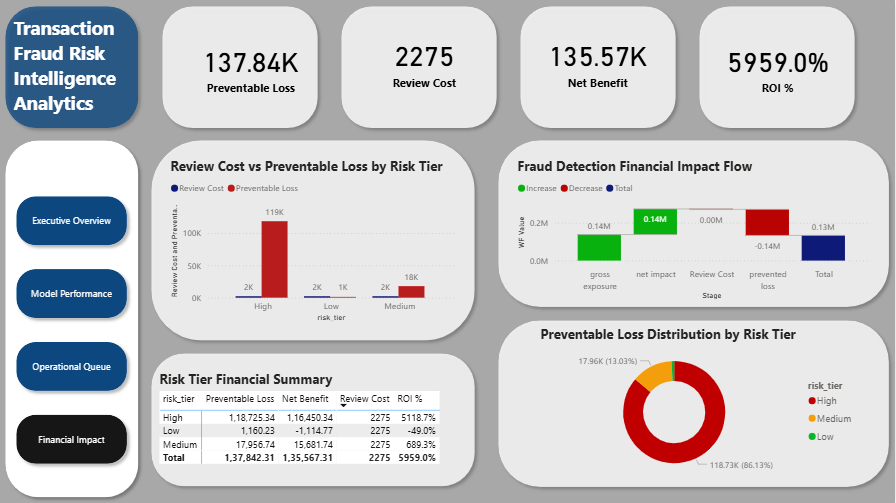

The dashboard page shown, as its layout file describes it:
{"tool":"powerbi","page":{"name":"Financial Impact","canvas":[1280,720],"ordinal":3},"visuals":[{"type":"shape","box":[0,0,208,192],"z":0},{"type":"shape","box":[704,448,576,256],"z":1000},{"type":"shape","box":[704,192,576,256],"z":2000},{"type":"shape","box":[208,496,480,208],"z":3000},{"type":"shape","box":[208,192,480,304],"z":4000},{"type":"shape","box":[992,0,240,192],"z":5000},{"type":"shape","box":[736,0,240,192],"z":6000},{"type":"shape","box":[480,0,240,192],"z":7000},{"type":"shape","box":[224,0,240,192],"z":8000},{"type":"group","id":"g1","title":"Group 1","box":[0,16,224,704],"z":9000},{"type":"shape","box":[0,192,208,528],"z":9000,"group":"g1"},{"type":"card","fields":{"Values":["transaction_risk_score_final.Review Cost"]},"box":[496,0,224,176],"z":10000},{"type":"card","fields":{"Values":["transaction_risk_score_final.Preventable Loss"]},"box":[256,0,208,192],"z":11000},{"type":"card","fields":{"Values":["transaction_risk_score_final.Net Benefit"]},"box":[752,0,208,176],"z":12000},{"type":"card","fields":{"Values":["transaction_risk_score_final.ROI %"]},"box":[1008,0,208,192],"z":13000},{"type":"clusteredColumnChart","title":"Review Cost  vs Preventable Loss by Risk Tier","fields":{"Category":["transaction_risk_score_final.risk_tier"],"Y":["transaction_risk_score_final.Review Cost","transaction_risk_score_final.Preventable Loss"]},"box":[240,224,416,240],"z":14000},{"type":"pivotTable","title":"Risk Tier Financial Summary","fields":{"Rows":["transaction_risk_score_final.risk_tier"],"Values":["transaction_risk_score_final.Preventable Loss","transaction_risk_score_final.Net Benefit","transaction_risk_score_final.Review Cost","transaction_risk_score_final.ROI %"]},"box":[224,528,432,160],"z":15000},{"type":"donutChart","title":"Preventable Loss  Distribution by Risk Tier","fields":{"Category":["transaction_risk_score_final.risk_tier"],"Y":["transaction_risk_score_final.Preventable Loss"]},"box":[768,464,464,224],"z":16000},{"type":"textbox","box":[16,16,208,176],"z":16002,"group":"g1"},{"type":"waterfallChart","title":"Fraud Detection Financial Impact Flow","fields":{"Category":["WF Axis.Stage"],"Y":["WF Axis.WF Value"]},"box":[736,224,512,208],"z":17000},{"type":"pageNavigator","box":[16,272,176,400],"z":23502,"group":"g1"}]}

Visuals, with their boxes in screenshot pixels (x1, y1, x2, y2), scaled from the page's 1280x720 canvas onto the 896x503 screenshot:
shape: 0:0:146:134
shape: 493:313:895:492
shape: 493:134:895:313
shape: 146:347:482:492
shape: 146:134:482:347
shape: 694:0:862:134
shape: 515:0:683:134
shape: 336:0:504:134
shape: 157:0:325:134
"Group 1" group: 0:11:157:502
shape: 0:134:146:502
card - transaction_risk_score_final.Review Cost: 347:0:504:123
card - transaction_risk_score_final.Preventable Loss: 179:0:325:134
card - transaction_risk_score_final.Net Benefit: 526:0:672:123
card - transaction_risk_score_final.ROI %: 706:0:851:134
"Review Cost  vs Preventable Loss by Risk Tier" clusteredColumnChart: 168:156:459:324
"Risk Tier Financial Summary" pivotTable: 157:369:459:481
"Preventable Loss  Distribution by Risk Tier" donutChart: 538:324:862:481
textbox: 11:11:157:134
"Fraud Detection Financial Impact Flow" waterfallChart: 515:156:874:302
pageNavigator: 11:190:134:469
